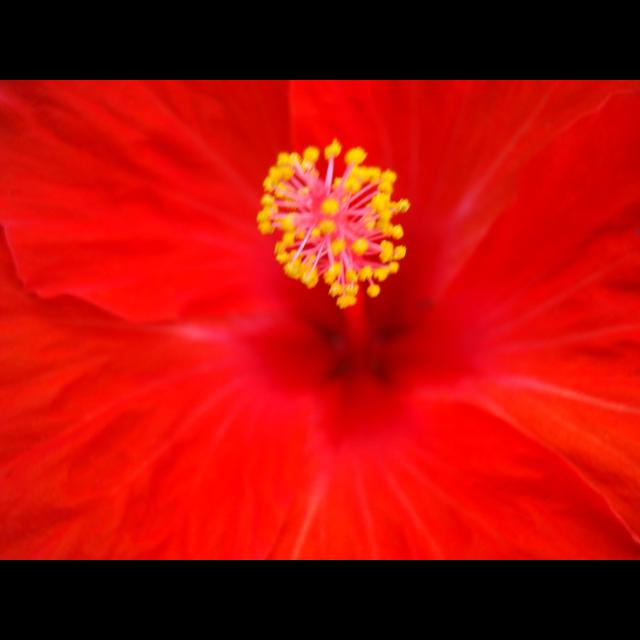Flower: (250, 140, 414, 304)
